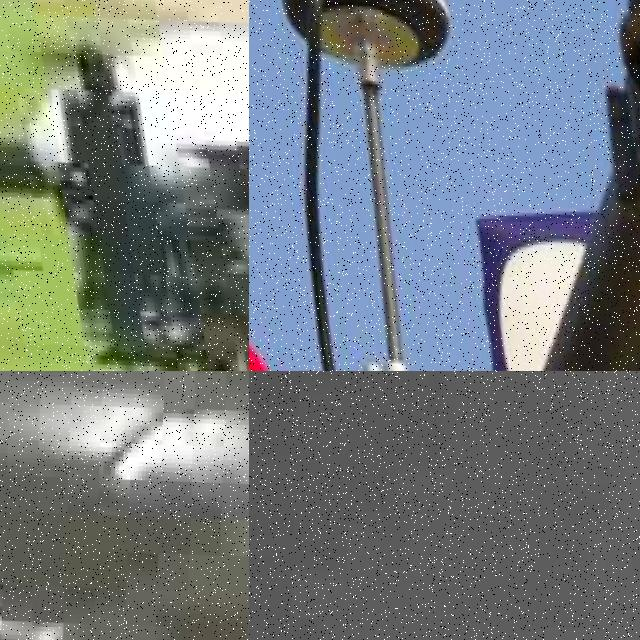0: (0, 0, 249, 371)
drone: (249, 0, 640, 371)
